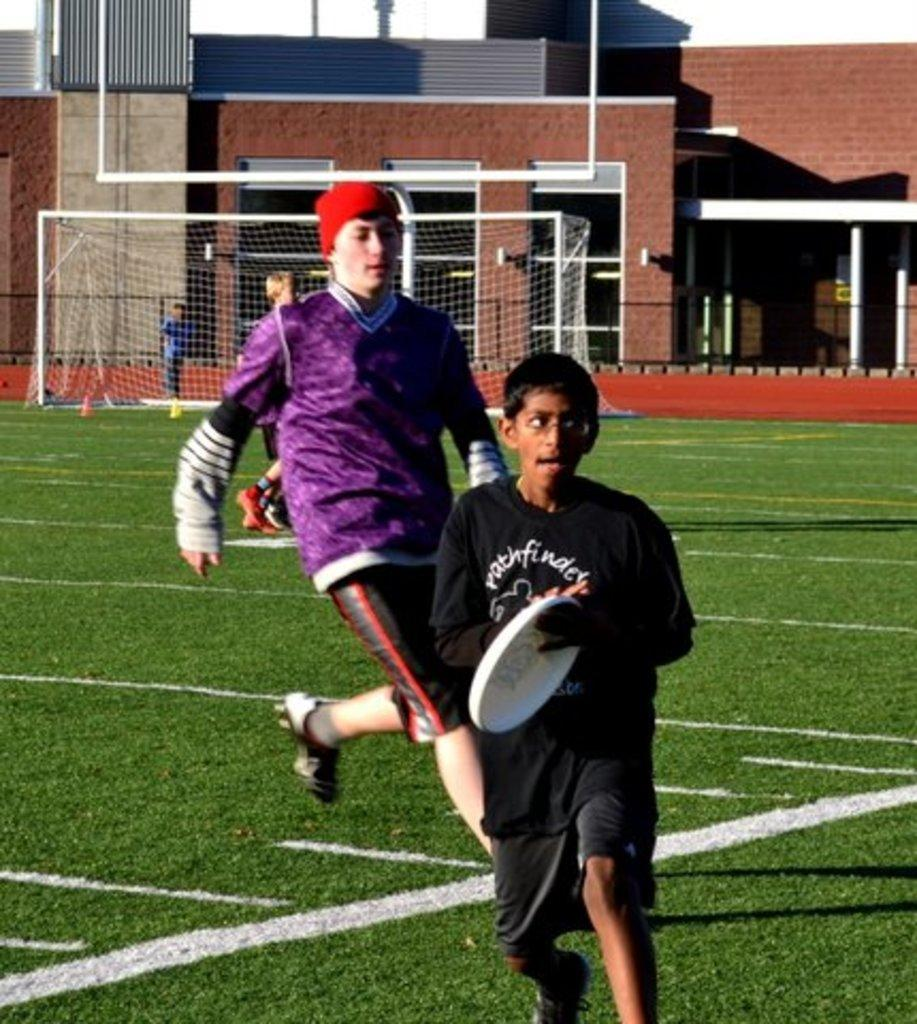no_helmet: (487, 342, 578, 388), (322, 176, 400, 214)
none: (463, 474, 640, 796), (300, 296, 454, 564)
